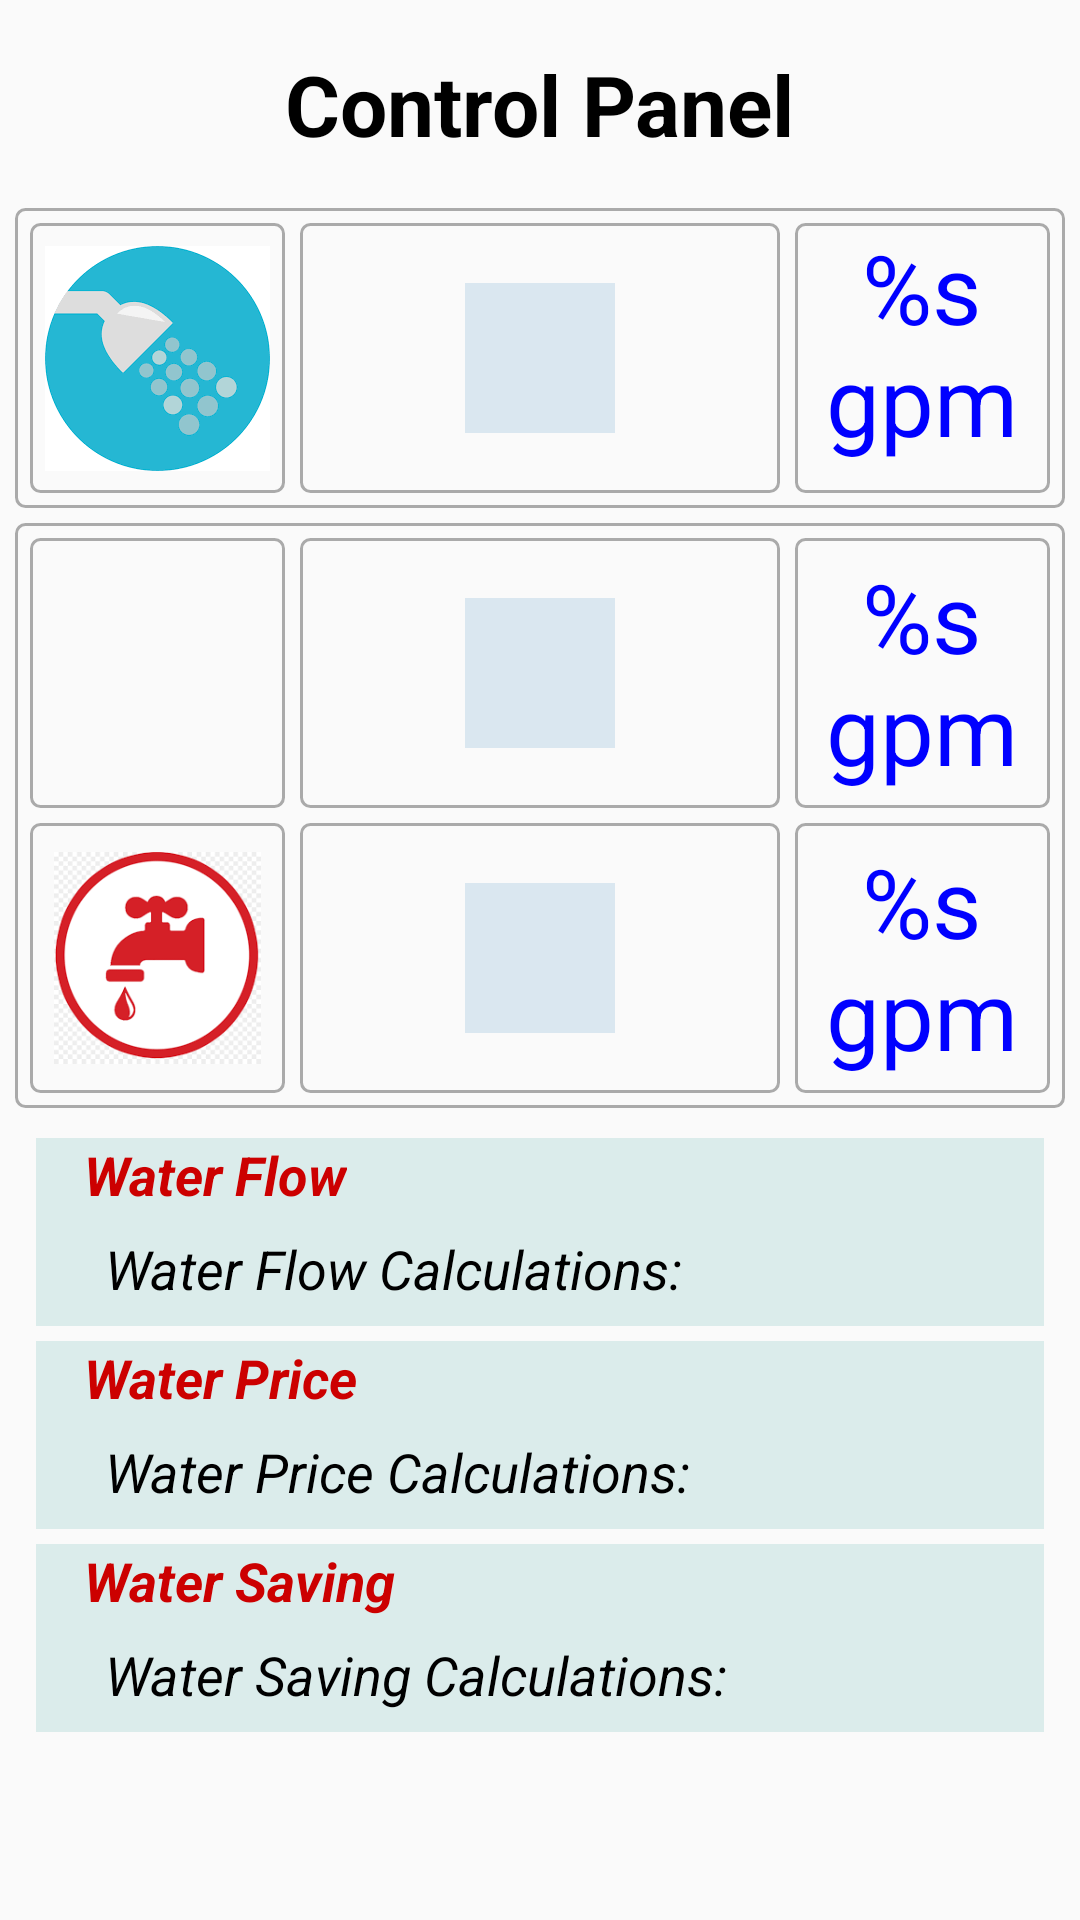

Screen size 1080px x 1920px. Icon name, then its box in pixels as (x1, y1, x2, y2):
hot tap: (30, 823, 285, 1093)
shower: (30, 223, 285, 493)
